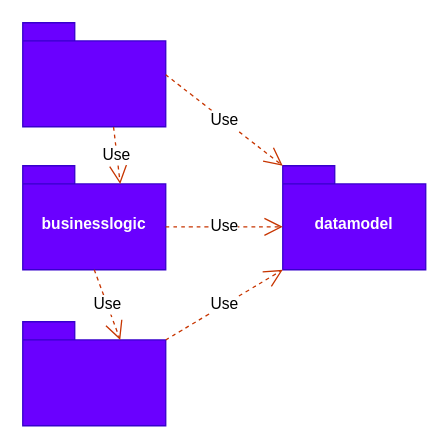
Image size: 448x448. Some labels were removed from this diagram. The shapes that lost their labels are listed below. From the top down, each one's box as (x1, y1, x2, y2) in pixels, then its label:
(21, 21, 166, 127): gui
(21, 320, 166, 426): dataaccess
